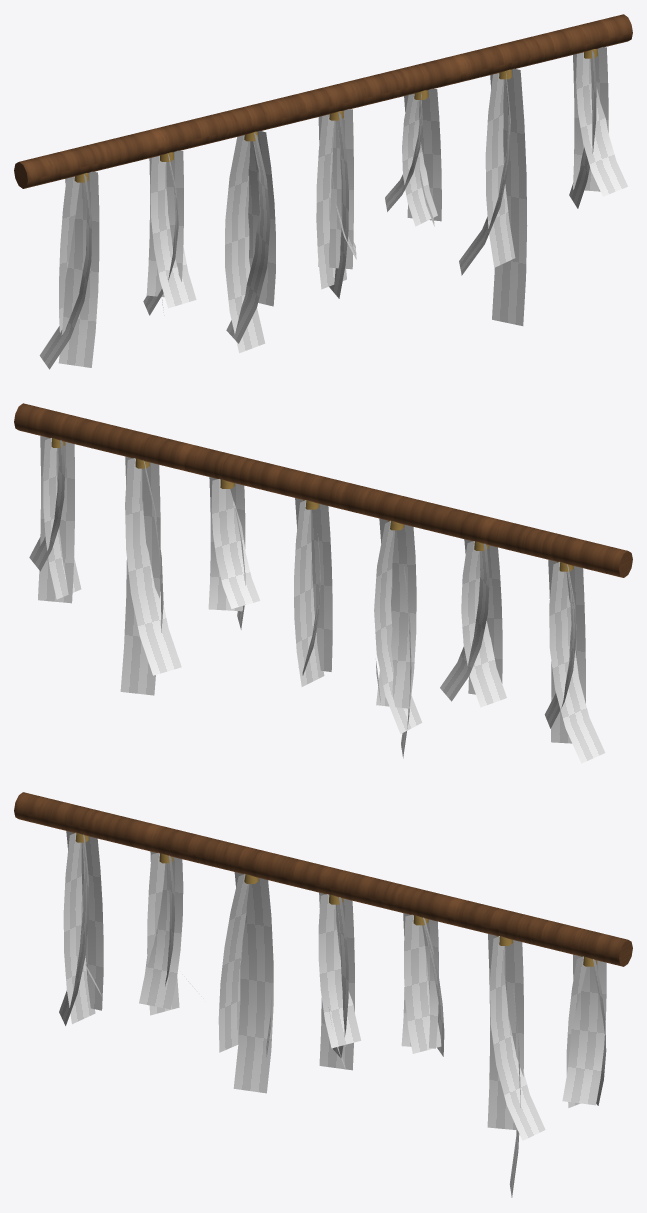
File: hangingHerbs.glb
3 renders of one model, top to bottom at view 1: azimuth 30°, elevation 25°; view 2: azimuth 150°, elevation 25°; view 3: azimuth 330°, elevation 25°, orthographic.
Parts seen in each view (by area): view 1: dyn_color_tint, hangingHerbs; view 2: dyn_color_tint, hangingHerbs; view 3: dyn_color_tint, hangingHerbs.
Boxes of the visible parts, left/top/right/bottom form: dyn_color_tint: left=39, top=47, right=627, bottom=369; hangingHerbs: left=14, top=14, right=632, bottom=188; dyn_color_tint: left=29, top=435, right=605, bottom=763; hangingHerbs: left=14, top=403, right=632, bottom=577; dyn_color_tint: left=59, top=831, right=606, bottom=1197; hangingHerbs: left=14, top=792, right=632, bottom=966.
Size of the model in its own units: 1 by 0.4423 by 0.115.
3 materials, 3 textured.
